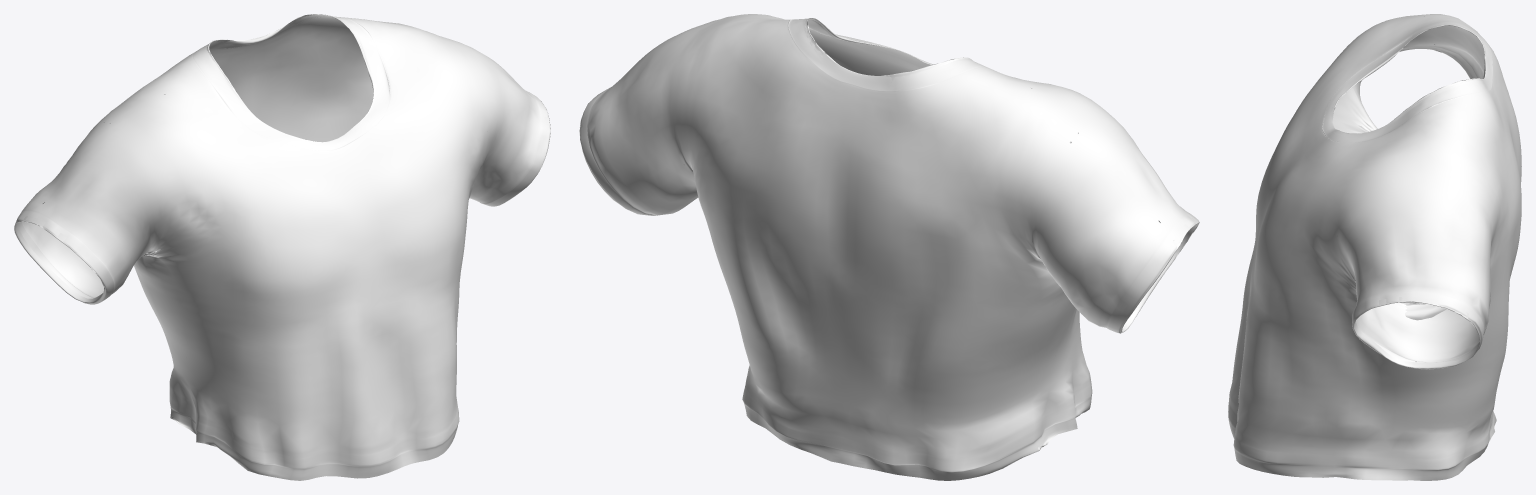
Rendered from Tshirt_XS.glb.
3 renders of one model, left to right at view 1: azimuth 30°, elevation 25°; view 2: azimuth 150°, elevation 25°; view 3: azimuth 270°, elevation 25°, orthographic. The views are drawn at different scales.
Parts seen in each view (by area): view 1: TShirt_for_Genesis; view 2: TShirt_for_Genesis; view 3: TShirt_for_Genesis.
Boxes of the visible parts, bbox=[...] form: TShirt_for_Genesis: bbox=[14, 14, 550, 480]; TShirt_for_Genesis: bbox=[579, 14, 1199, 480]; TShirt_for_Genesis: bbox=[1228, 14, 1521, 480].
Bounding box in the file's own units: 12.92 × 8.89 × 6.23.
1 material, 1 textured.
